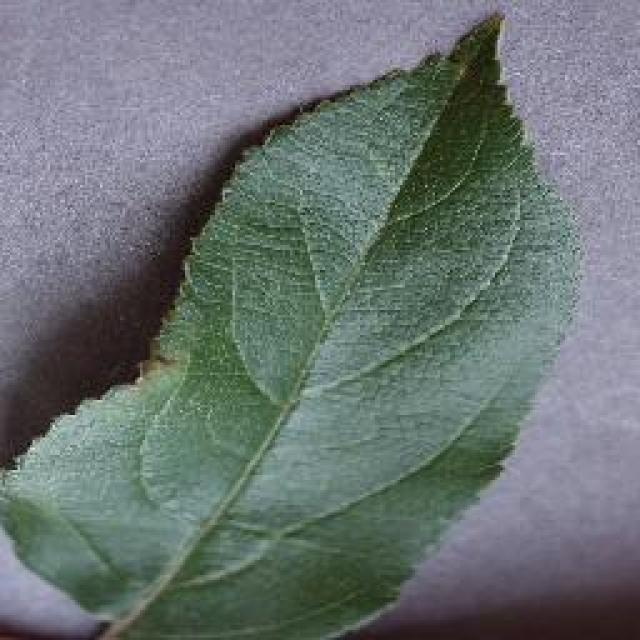apple healthy: (0, 5, 588, 637)
